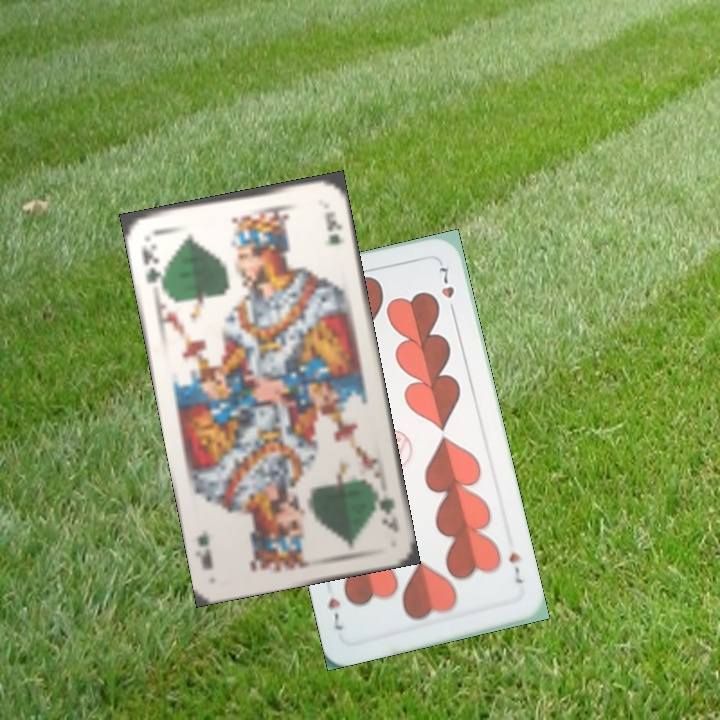GK: (370, 485, 402, 536), (137, 239, 167, 292)
H7: (504, 548, 525, 586)
